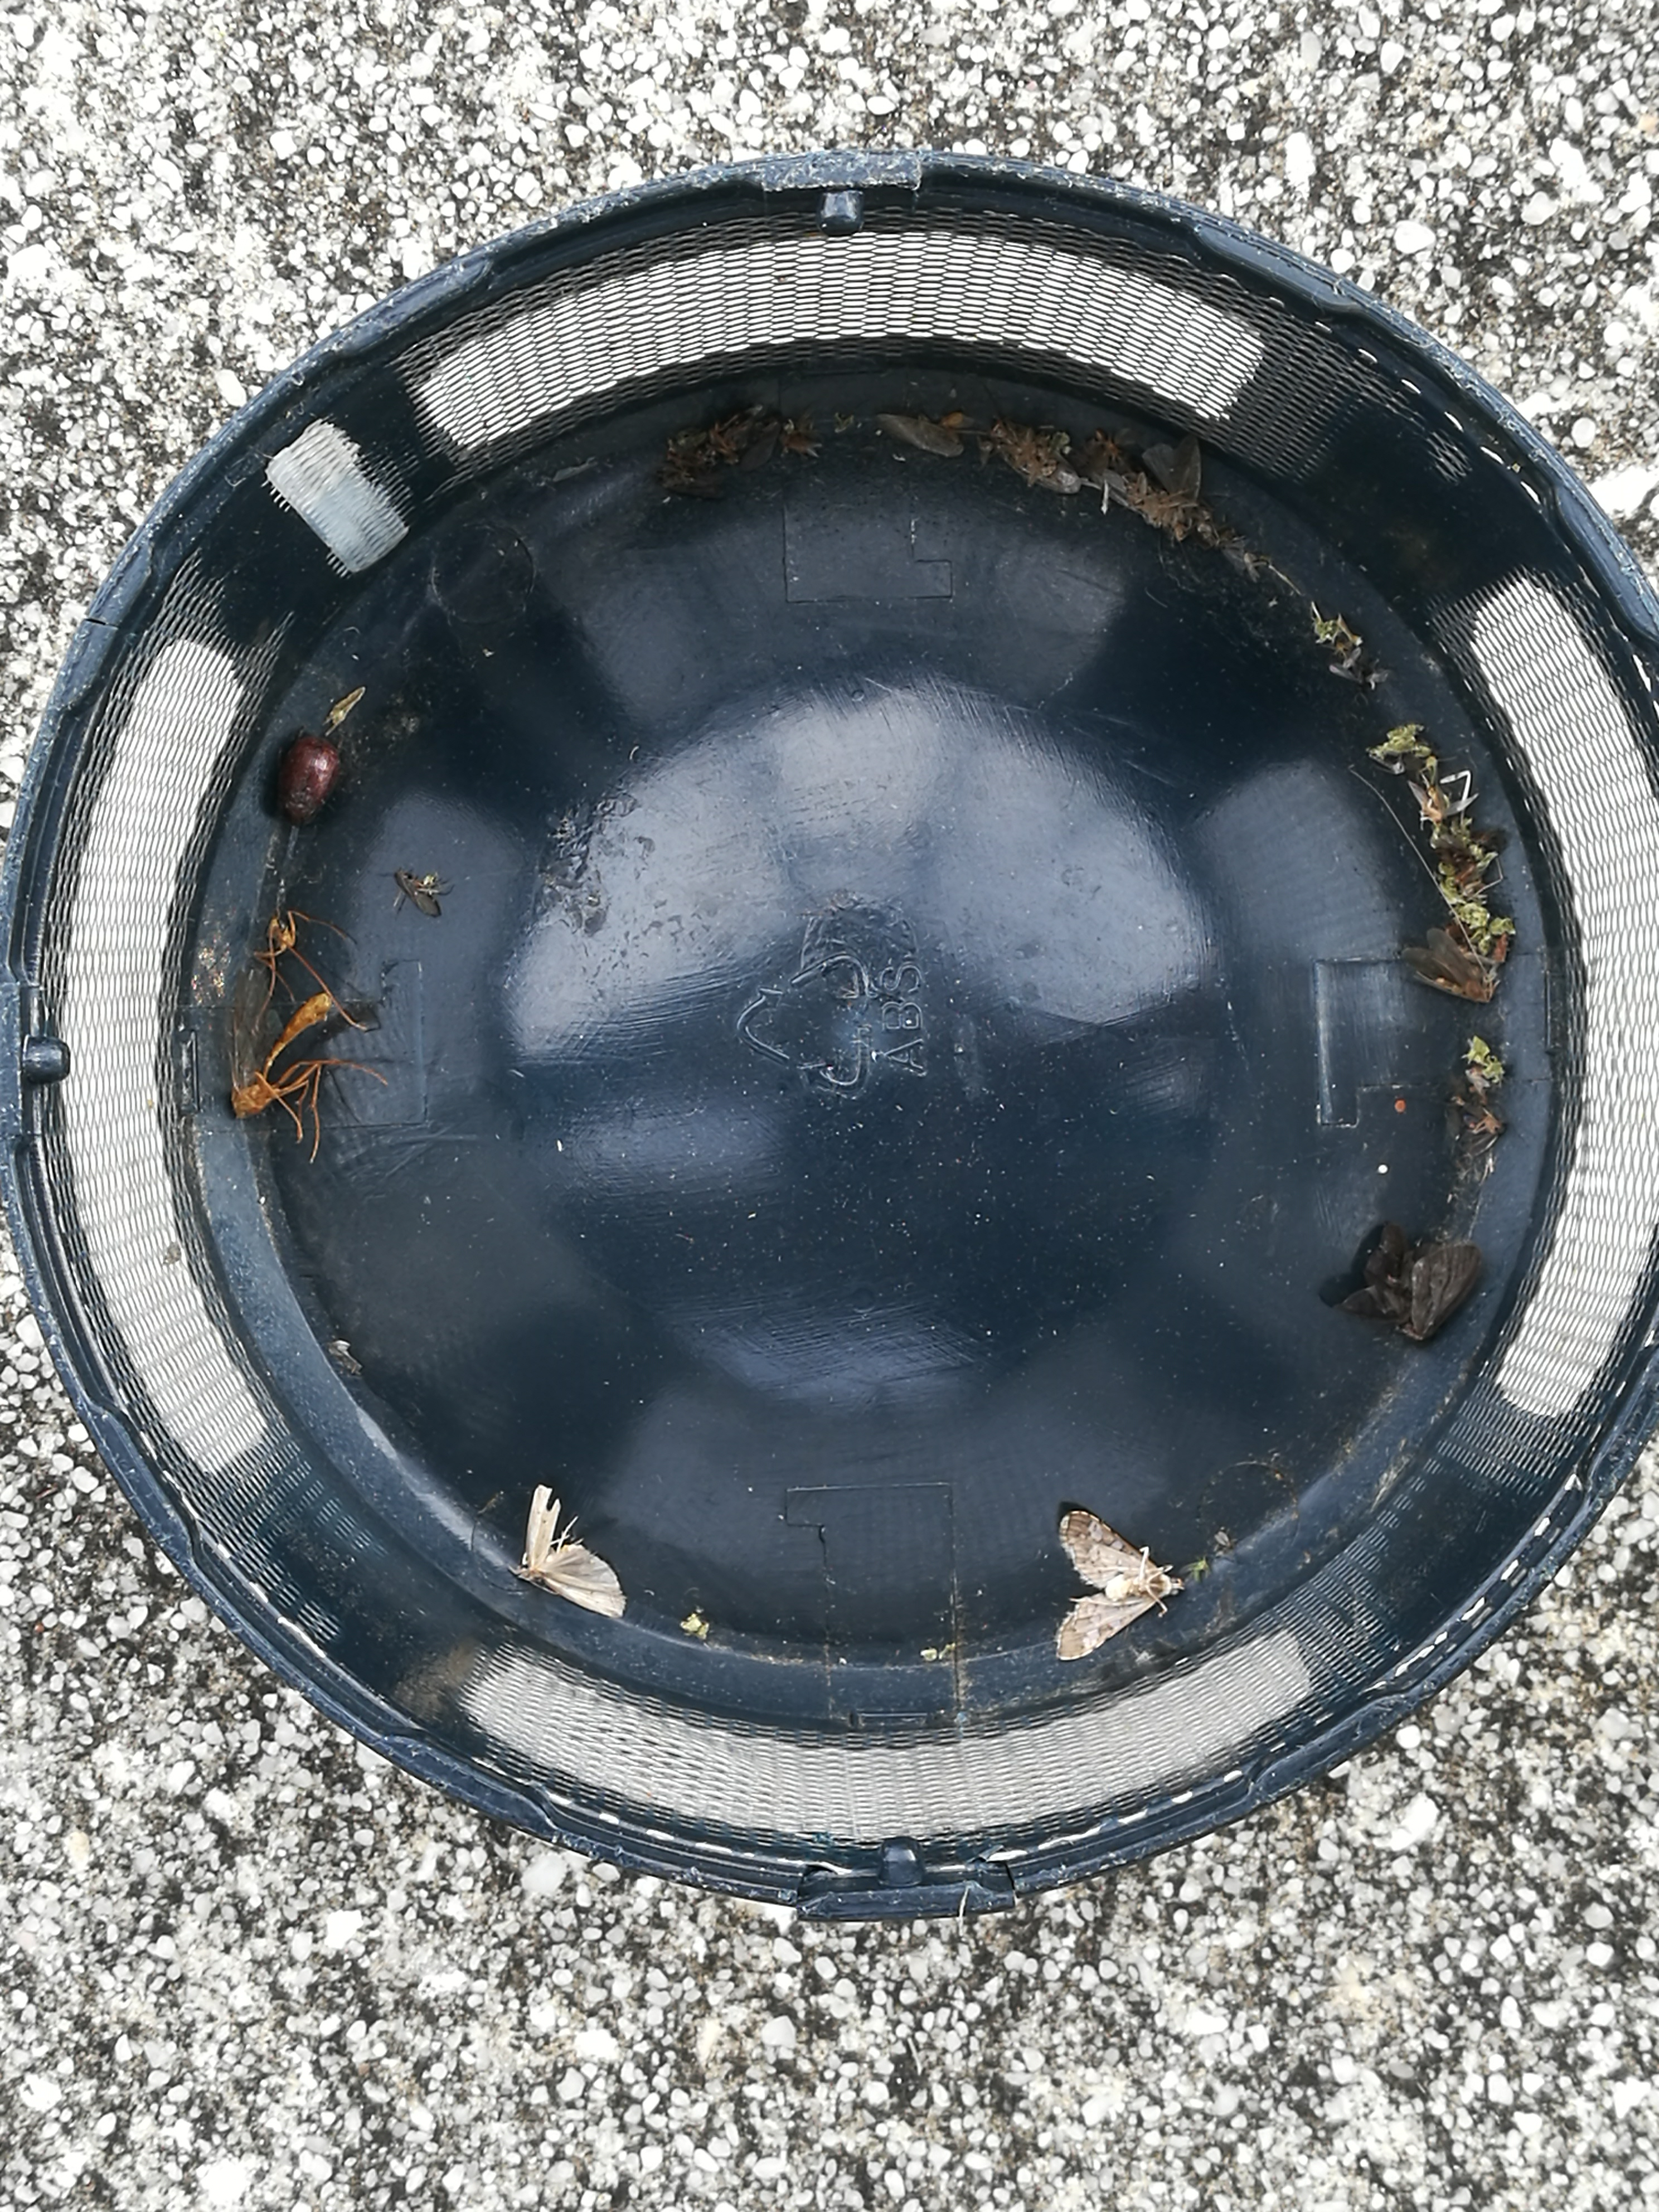beetle: (995, 423, 1082, 491), (281, 737, 338, 826)
mosquito: (1094, 469, 1161, 529), (394, 869, 441, 916)
moth: (1054, 1510, 1182, 1662), (1344, 1221, 1483, 1341), (523, 1482, 626, 1616), (1401, 930, 1493, 1005), (1143, 439, 1195, 540)
